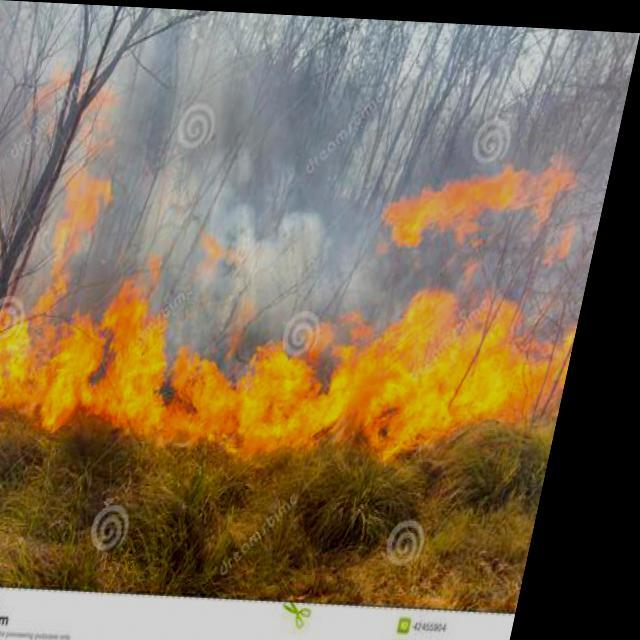Fire: (0, 132, 616, 452)
